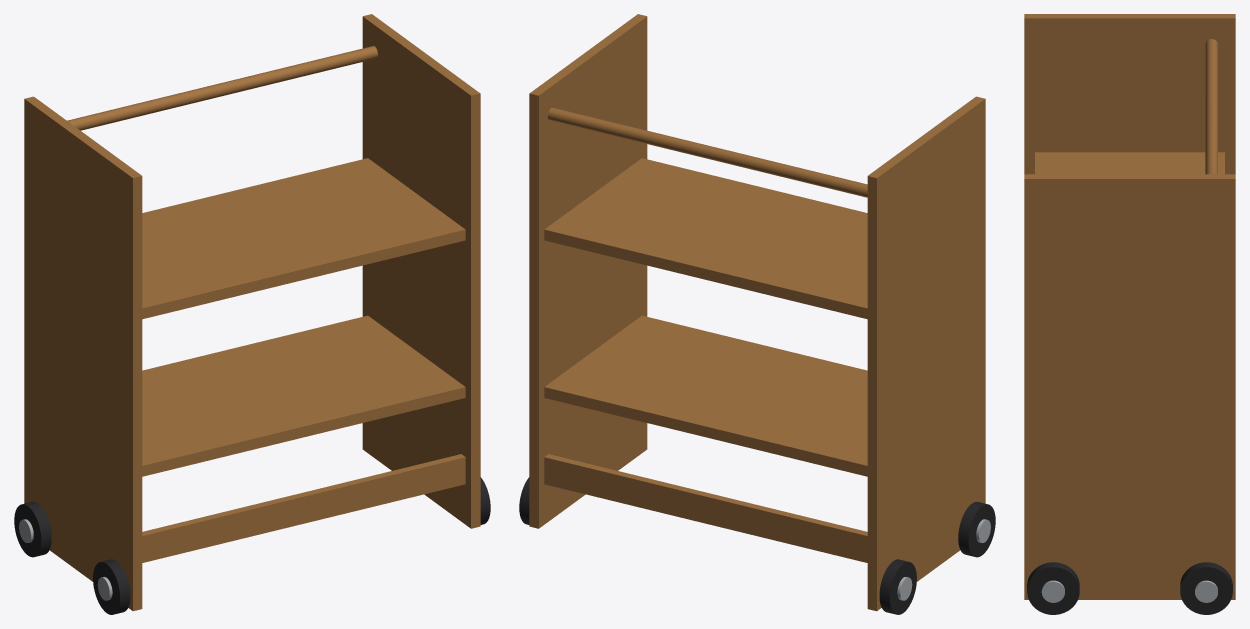
File: bookcart.glb
The picture shows the model from 3 angles, left to right: view 1: azimuth 30°, elevation 25°; view 2: azimuth 150°, elevation 25°; view 3: azimuth 270°, elevation 25°; orthographic projection. The views are drawn at different scales.
Visible parts, largest first — view 1: cart_frame, wheel_front_left, wheel_rear_left; view 2: cart_frame, wheel_rear_left, wheel_front_left; view 3: cart_frame, wheel_rear_right, wheel_front_right.
Boxes of the visible parts, left/top/right/bottom form: cart_frame: left=24, top=14, right=480, bottom=611; wheel_front_left: left=93, top=559, right=130, bottom=614; wheel_rear_left: left=14, top=501, right=51, bottom=557; cart_frame: left=529, top=14, right=985, bottom=611; wheel_rear_left: left=879, top=559, right=916, bottom=614; wheel_front_left: left=958, top=501, right=995, bottom=557; cart_frame: left=1024, top=14, right=1235, bottom=599; wheel_rear_right: left=1180, top=562, right=1232, bottom=614; wheel_front_right: left=1027, top=562, right=1079, bottom=614.
Bounding box in the file's own units: 0.8 × 0.9 × 0.4.
